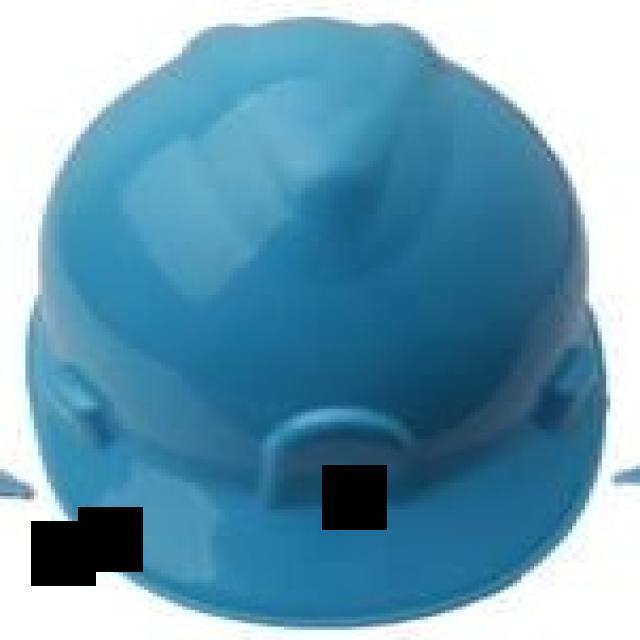blue helmet: (22, 10, 640, 631)
